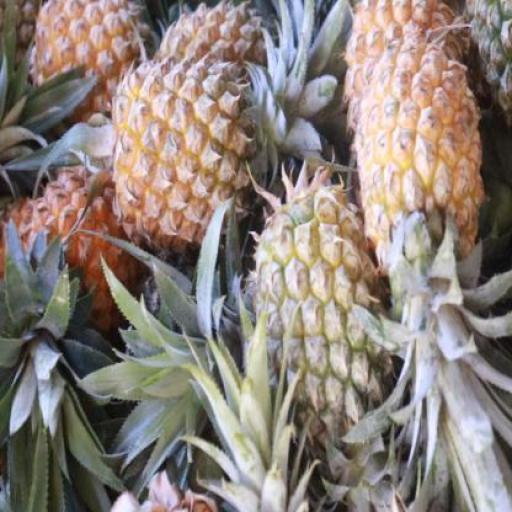------------------------------: (247, 188, 393, 438)
Pineapple - v8 v1: (360, 44, 482, 286), (113, 59, 249, 240), (28, 0, 146, 128)
